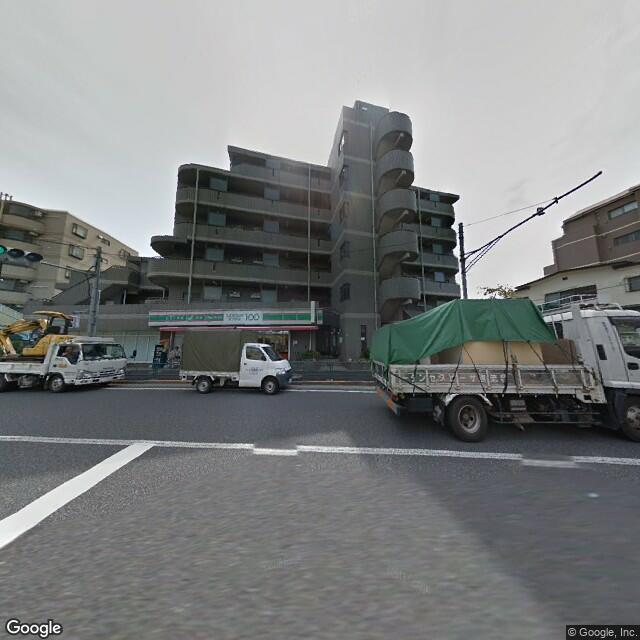lawson: (147, 305, 323, 335)
